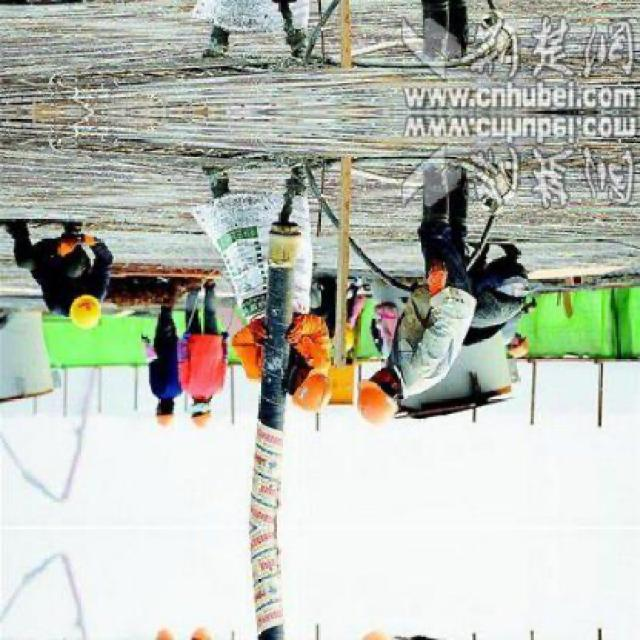con casco: (276, 353, 347, 428), (353, 360, 420, 430), (66, 284, 110, 343)
